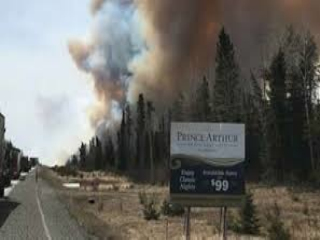smoke: (65, 3, 231, 136)
